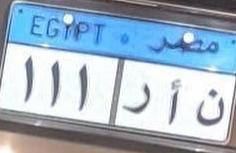1: (20, 53, 37, 103), (76, 62, 92, 113), (48, 57, 63, 109)
alif: (164, 76, 183, 126)
noon: (193, 82, 226, 131)
raa: (122, 79, 152, 120)
